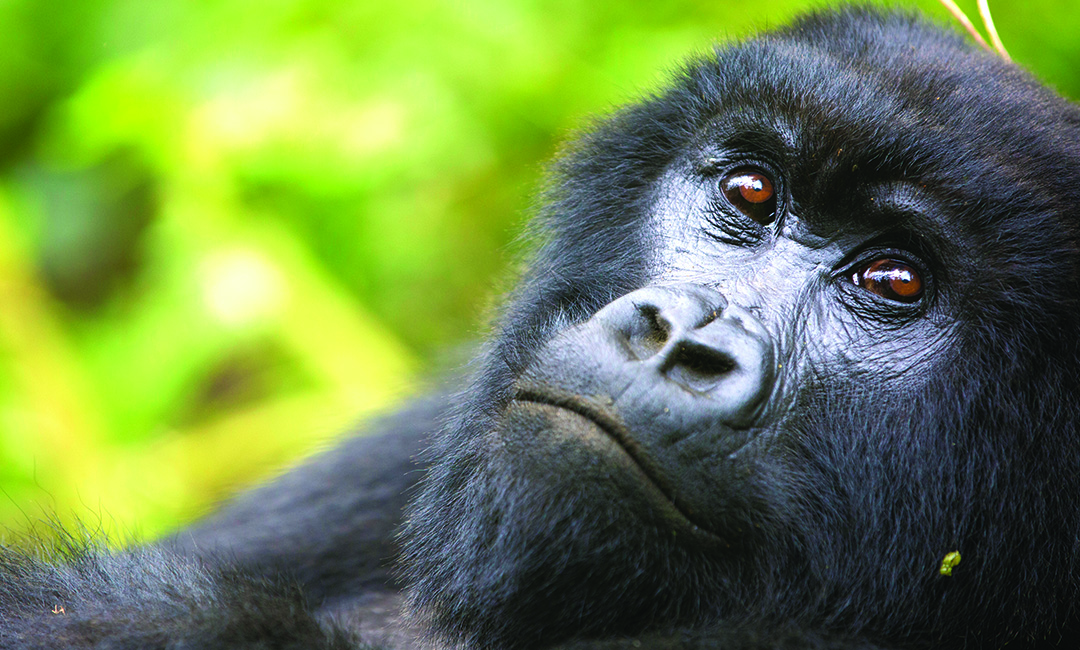Goriila: (384, 27, 1080, 628)
